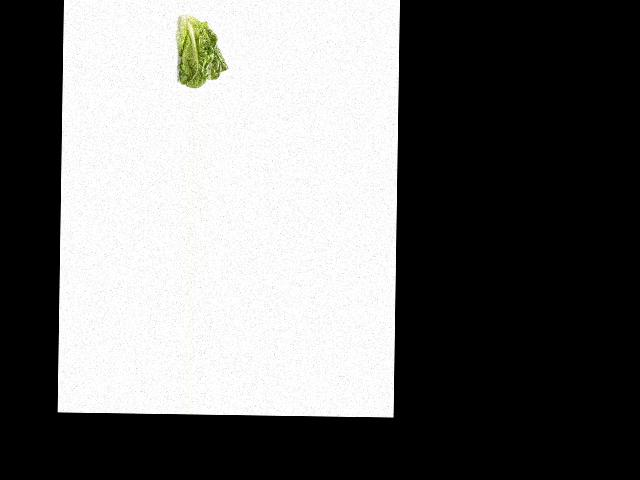lettuce: (166, 11, 229, 88)
